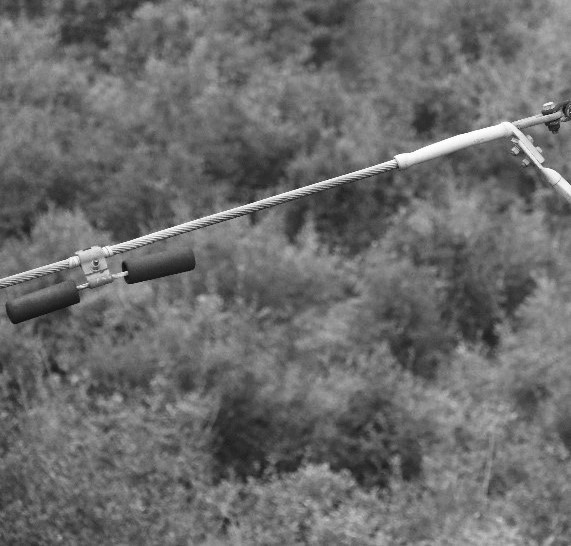Shockproof hammer: (1, 225, 199, 326)
